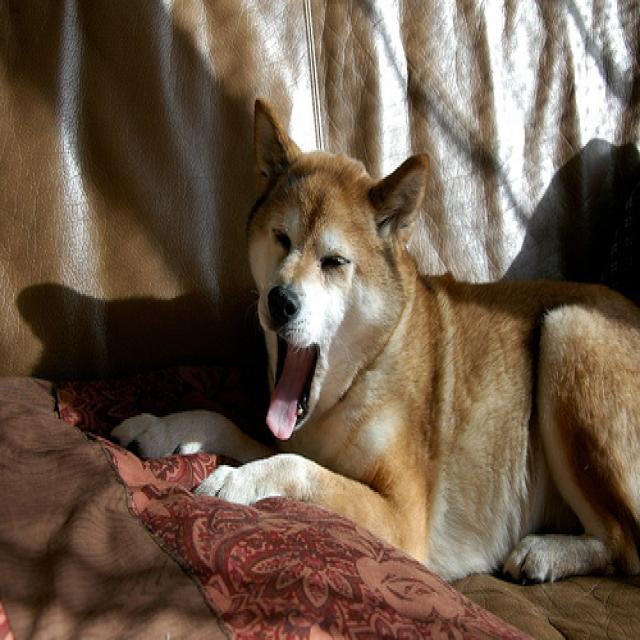dog-shiba_inu: (108, 77, 637, 598)
